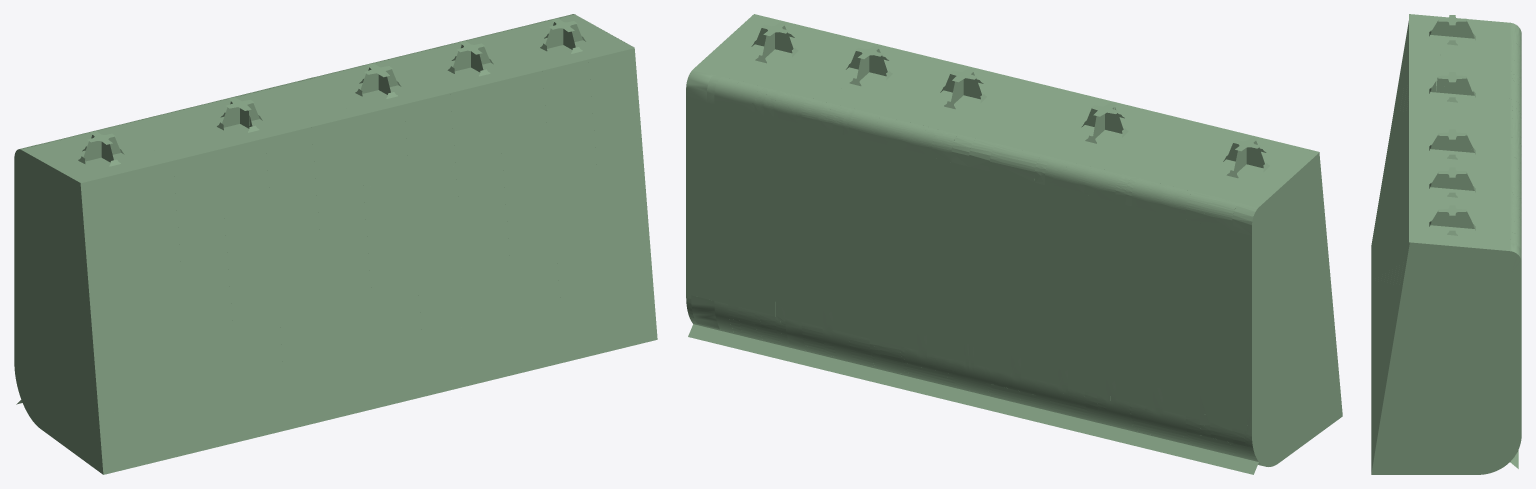
Rendered from NO_3_WING_CARGO_OIL_TK_PS.glb.
3 views of the same model, side by side, from view 1: azimuth 30°, elevation 25°; view 2: azimuth 150°, elevation 25°; view 3: azimuth 270°, elevation 25° (orthographic). The views are drawn at different scales.
Visible parts, largest first — view 1: PL_LBHDxNo4CenterTankP_009001-19.5_NVA36_1993, PL_LBHDxNo3CenterTankP_021002-19.5_NVA36_1993, PL_LBHDxNo4CenterTankP_010001-17.5_NVA32_1993, PL_LBHDxNo3CenterTankP_021001-19.5_NVA36_1993, PL_LBHDxNo3CenterTankP_025002-15_NVA32_1993, PL_LBHDxNo4CenterTankP_009004-19.5_NVA36_1993, PL_LBHDxNo3CenterTankP_025001-15_NVA32_1993, PL_LBHDxNo4CenterTankP_018002-17.5_NVA36_1993, PL_LBHDxNo3CenterTankP_022002-17.5_NVA32_1993, PL_LBHDxNo4CenterTankP_011005-17_NVA32_1993, PL_LBHDxNo4CenterTankP_013003-15_NVA32_1993, PL_LBHDxNo3CenterTankP_022001-17.5_NVA32_1993 (+107 smaller); view 2: PL_OuterShellxNo3SideTankP_056001-19_NVA32_1993, PL_OuterShellxNo3SideTankP_234002-19_NVA32_1993, PL_OuterShellxNo3SideTankP_234001-19_NVA32_1993, PL_OuterShellxNo3SideTankP_056004-19_NVA32_1993, PL_OuterShellxNo3SideTankP_056002-19_NVA32_1993, PL_OuterShellxNo3SideTankP_234004-19_NVA32_1993, PL_OuterShellxNo3SideTankP_056005-19_NVA32_1993, PL_OuterShellxNo3SideTankP_247001-20_NVD36_1993, PL_OuterShellxNo3SideTankP_235003-19_NVA32_1993, PL_OuterShellxNo3SideTankP_234005-19_NVA32_1993, PL_OuterShellxNo3SideTankP_063002-20_NVD36_1993, PL_SideTransBHDxBHD69P_001001-19.5_NVA32_1993 (+74 smaller); view 3: PL_SideTransBHDxBHD81P_002001-19.5_NVA32_1993, PL_SideTransBHDxBHD81P_001001-19.5_NVA32_1993, PL_SideTransBHDxBHD81P_005001-18.5_NVA32_1993, PL_SideTransBHDxBHD81P_003001-18.5_NVA32_1993, PL_SideTransBHDxBHD81P_007001-17_NVA32_1993, PL_SideTransBHDxBHD81P_013001-14.5_NVA32_1993, PL_SideTransBHDxBHD81P_017002-13.5_NVA_1993, PL_SideTransBHDxBHD81P_012001-14.5_NVA32_1993, PL_SideTransBHDxBHD81P_008001-17_NVA32_1993, PL_SideTransBHDxBHD81P_012002-14.5_NVA32_1993, PL_SideTransBHDxBHD81P_019001-13.5_NVA_1993, PL_SideTransBHDxBHD81P_011003-15.5_NVA32_1993 (+87 smaller).
Boxes of the visible parts, left/top/right/bottom form: PL_LBHDxNo4CenterTankP_009001-19.5_NVA36_1993: left=165, top=409, right=221, bottom=458; PL_LBHDxNo3CenterTankP_021002-19.5_NVA36_1993: left=444, top=342, right=497, bottom=390; PL_LBHDxNo4CenterTankP_010001-17.5_NVA32_1993: left=162, top=375, right=218, bottom=422; PL_LBHDxNo3CenterTankP_021001-19.5_NVA36_1993: left=394, top=354, right=447, bottom=402; PL_LBHDxNo3CenterTankP_025002-15_NVA32_1993: left=433, top=195, right=486, bottom=242; PL_LBHDxNo4CenterTankP_009004-19.5_NVA36_1993: left=264, top=386, right=315, bottom=434; PL_LBHDxNo3CenterTankP_025001-15_NVA32_1993: left=383, top=207, right=435, bottom=254; PL_LBHDxNo4CenterTankP_018002-17.5_NVA36_1993: left=145, top=154, right=200, bottom=200; PL_LBHDxNo3CenterTankP_022002-17.5_NVA32_1993: left=442, top=307, right=495, bottom=353; PL_LBHDxNo4CenterTankP_011005-17_NVA32_1993: left=159, top=335, right=215, bottom=380; PL_LBHDxNo4CenterTankP_013003-15_NVA32_1993: left=252, top=239, right=304, bottom=286; PL_LBHDxNo3CenterTankP_022001-17.5_NVA32_1993: left=392, top=319, right=444, bottom=366; PL_OuterShellxNo3SideTankP_056001-19_NVA32_1993: left=1131, top=277, right=1185, bottom=326; PL_OuterShellxNo3SideTankP_234002-19_NVA32_1993: left=849, top=208, right=900, bottom=256; PL_OuterShellxNo3SideTankP_234001-19_NVA32_1993: left=900, top=221, right=951, bottom=268; PL_OuterShellxNo3SideTankP_056004-19_NVA32_1993: left=1034, top=254, right=1084, bottom=301; PL_OuterShellxNo3SideTankP_056002-19_NVA32_1993: left=1084, top=266, right=1131, bottom=312; PL_OuterShellxNo3SideTankP_234004-19_NVA32_1993: left=801, top=197, right=848, bottom=243; PL_OuterShellxNo3SideTankP_056005-19_NVA32_1993: left=989, top=243, right=1034, bottom=289; PL_OuterShellxNo3SideTankP_247001-20_NVD36_1993: left=849, top=109, right=906, bottom=149; PL_OuterShellxNo3SideTankP_235003-19_NVA32_1993: left=714, top=175, right=754, bottom=220; PL_OuterShellxNo3SideTankP_234005-19_NVA32_1993: left=760, top=187, right=801, bottom=232; PL_OuterShellxNo3SideTankP_063002-20_NVD36_1993: left=1186, top=191, right=1238, bottom=230; PL_SideTransBHDxBHD69P_001001-19.5_NVA32_1993: left=1303, top=383, right=1342, bottom=444; PL_SideTransBHDxBHD81P_002001-19.5_NVA32_1993: left=1446, top=445, right=1519, bottom=474; PL_SideTransBHDxBHD81P_001001-19.5_NVA32_1993: left=1371, top=445, right=1436, bottom=474; PL_SideTransBHDxBHD81P_005001-18.5_NVA32_1993: left=1446, top=418, right=1507, bottom=445; PL_SideTransBHDxBHD81P_003001-18.5_NVA32_1993: left=1376, top=418, right=1436, bottom=445; PL_SideTransBHDxBHD81P_007001-17_NVA32_1993: left=1381, top=386, right=1436, bottom=412; PL_SideTransBHDxBHD81P_013001-14.5_NVA32_1993: left=1475, top=329, right=1521, bottom=356; PL_SideTransBHDxBHD81P_017002-13.5_NVA_1993: left=1460, top=278, right=1521, bottom=298; PL_SideTransBHDxBHD81P_012001-14.5_NVA32_1993: left=1391, top=329, right=1436, bottom=356; PL_SideTransBHDxBHD81P_008001-17_NVA32_1993: left=1475, top=386, right=1521, bottom=412; PL_SideTransBHDxBHD81P_012002-14.5_NVA32_1993: left=1436, top=329, right=1475, bottom=356; PL_SideTransBHDxBHD81P_019001-13.5_NVA_1993: left=1460, top=247, right=1511, bottom=269; PL_SideTransBHDxBHD81P_011003-15.5_NVA32_1993: left=1386, top=365, right=1436, bottom=386.
Bounding box in the file's own units: 62.88 × 31.5 × 17.51.
